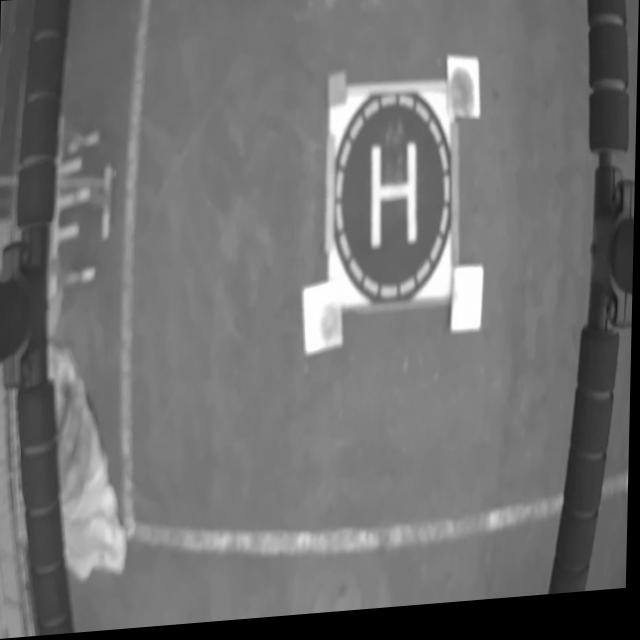Helipad: (370, 143, 419, 256)
